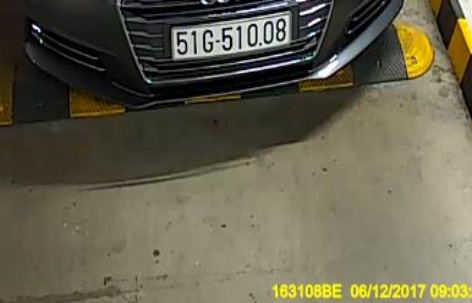plate: (168, 10, 303, 62)
